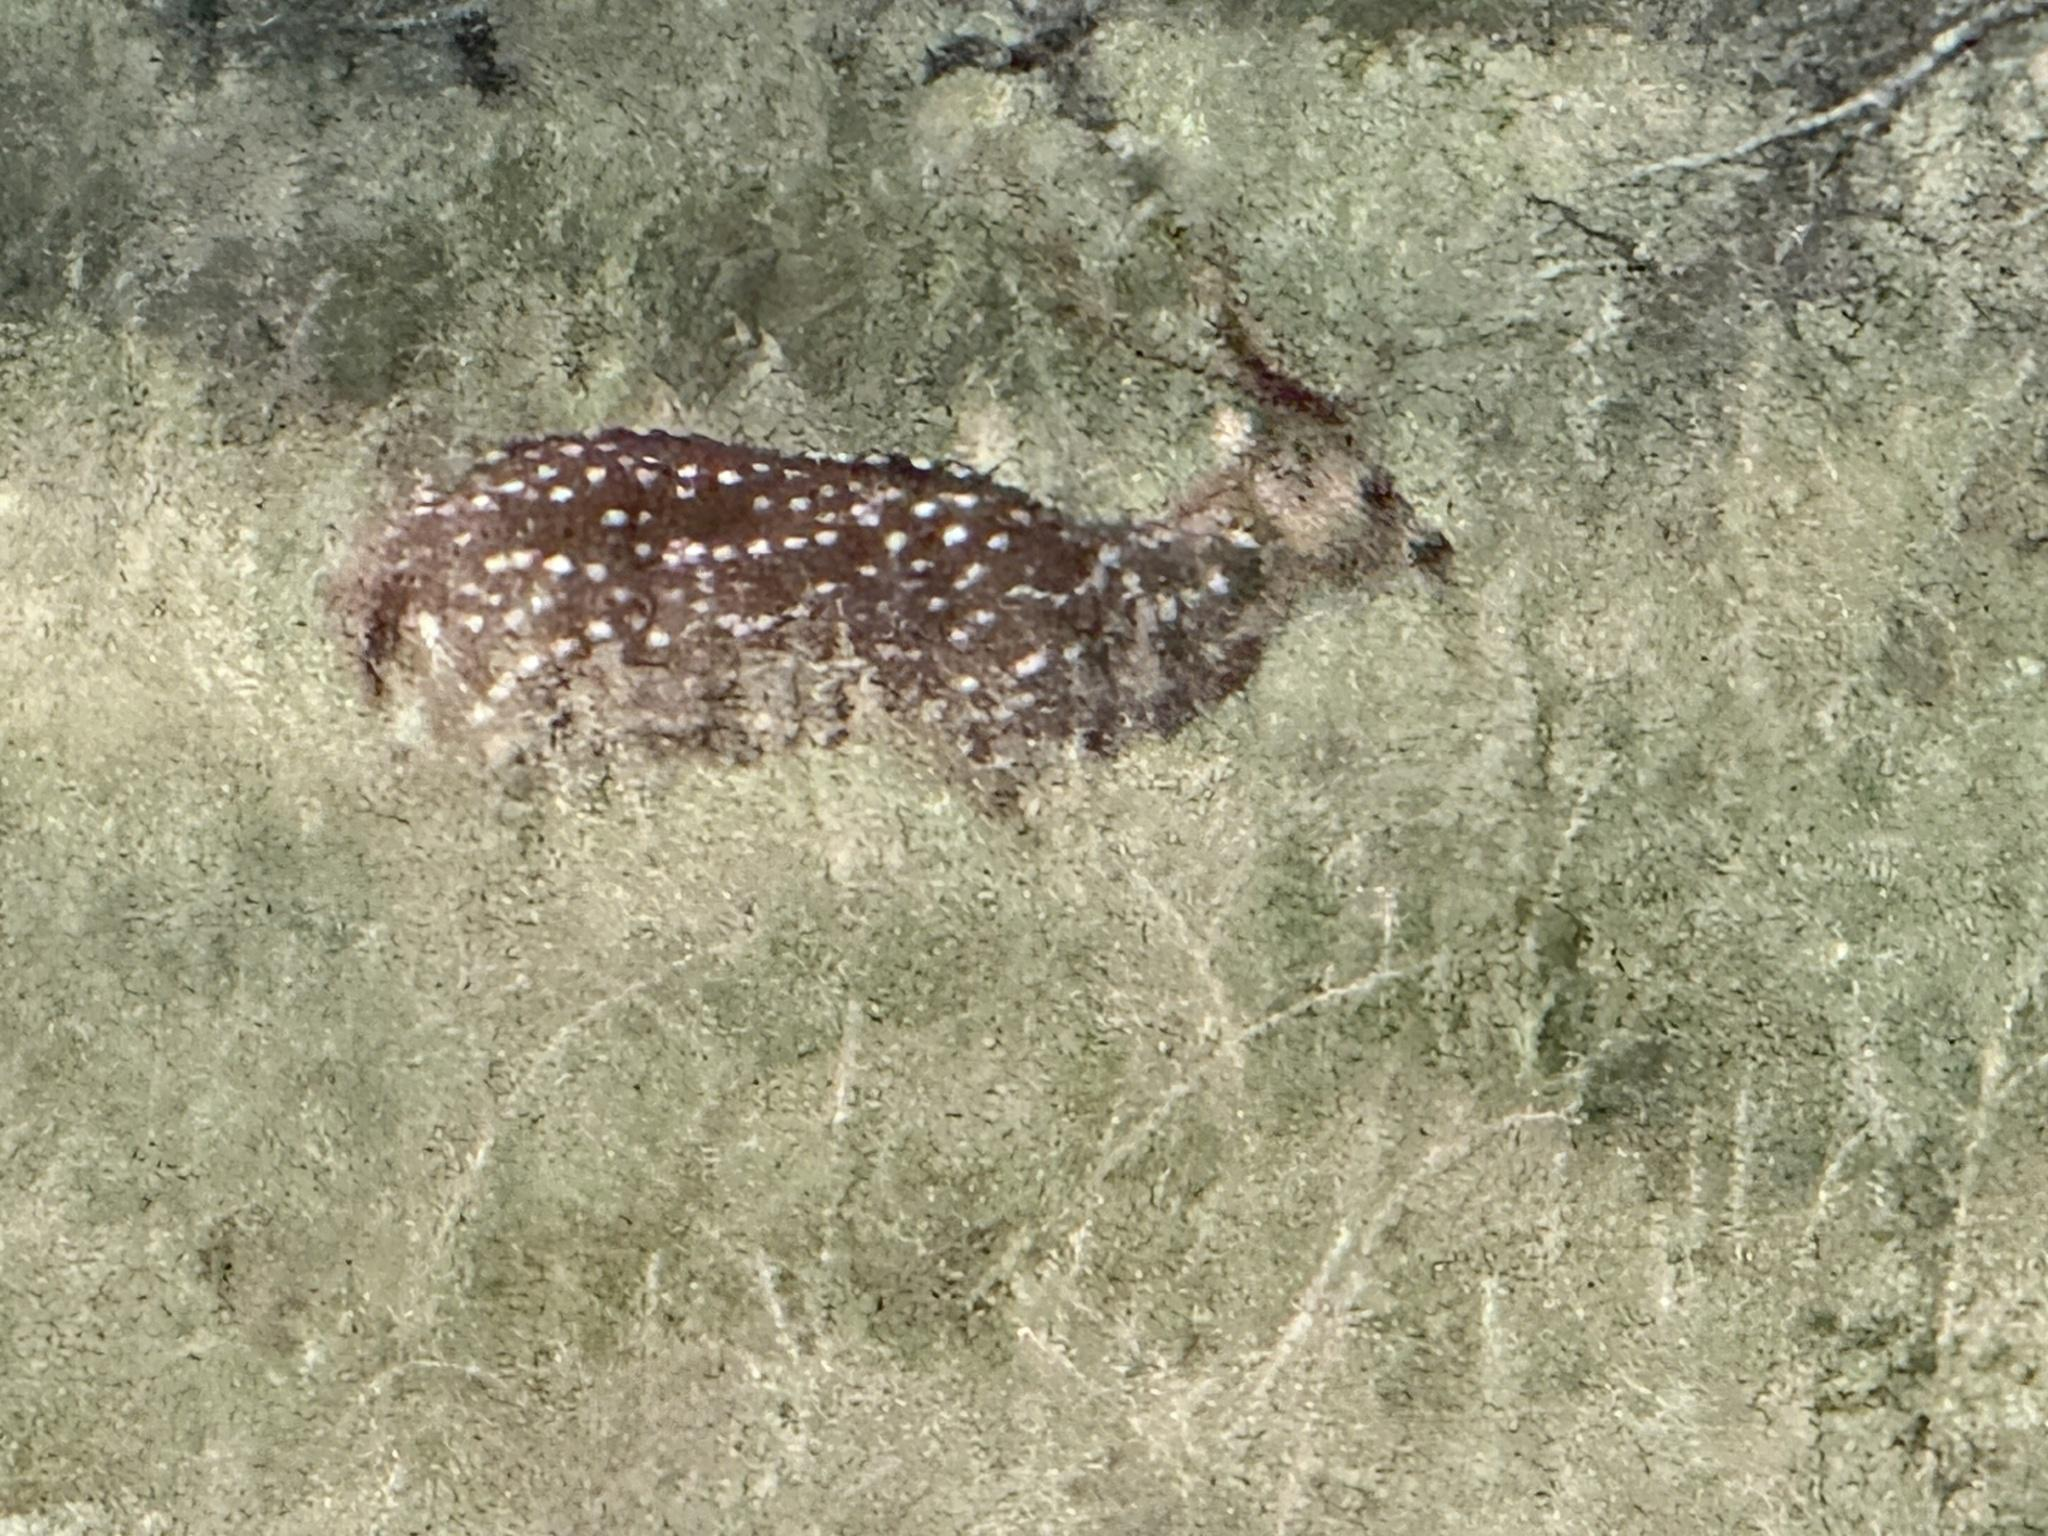Deer: (340, 308, 1451, 803)
